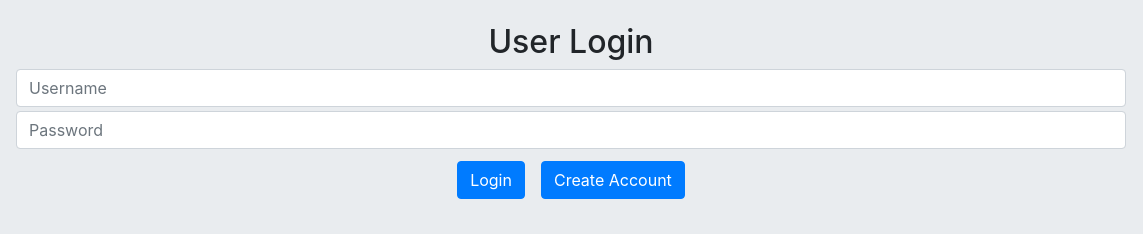
Test case: Login Application › User Login › should return error message when user fails to login
This screenshot has width=1143, height=234.
Check: the heading "User Login" is shown, box [488,22,654,61]
Click the button "Login".
click(491, 180)  # box [457,161,525,199]
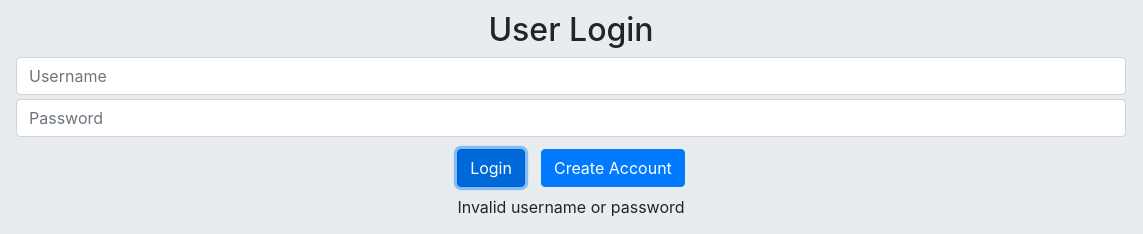
Check: the text "Invalid username or password" is shown, box [457,197,685,217]
